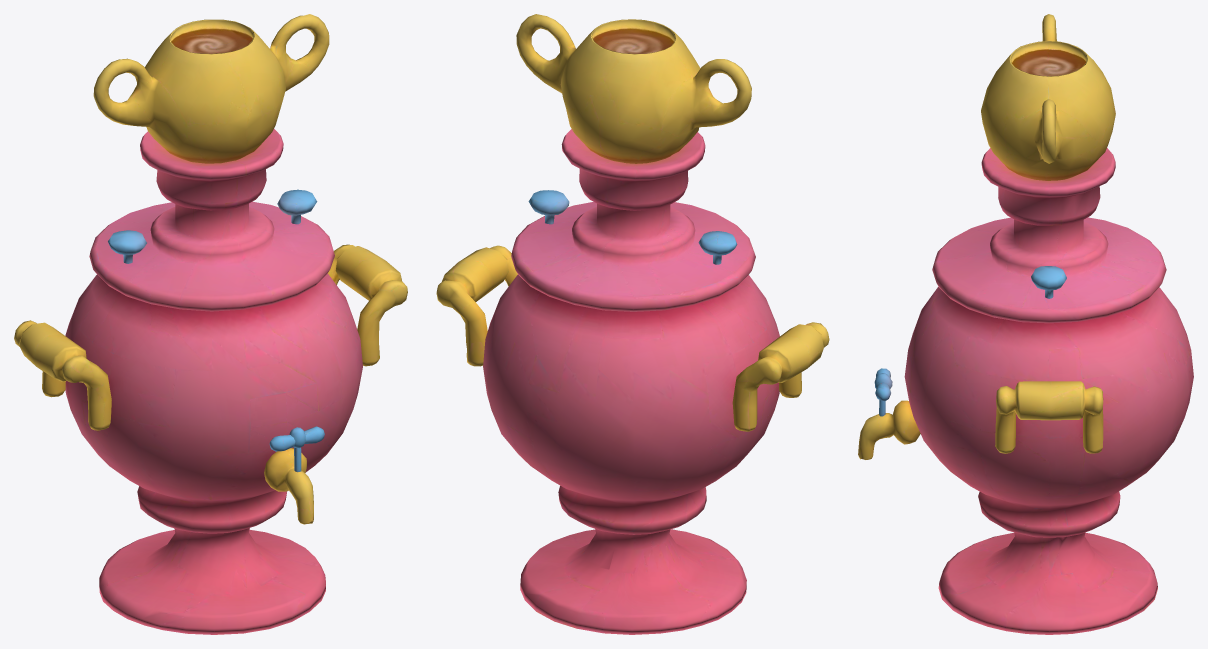
Rendered from samovar.glb.
3 views of the same model, side by side, from view 1: azimuth 30°, elevation 25°; view 2: azimuth 150°, elevation 25°; view 3: azimuth 270°, elevation 25° (orthographic). The views are drawn at different scales.
Visible parts, largest first — view 1: geometry_0; view 2: geometry_0; view 3: geometry_0.
Part boxes in pixels (x1,y1,x2,y2): geometry_0: (14, 14, 407, 634); geometry_0: (436, 14, 829, 634); geometry_0: (858, 14, 1193, 634).
Bounding box in the file's own units: 0.6777 × 1 × 0.5752.
Materials: 1 (1 with a texture image).
